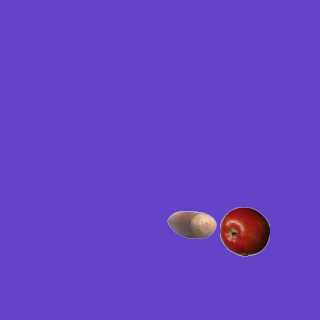Apple Braeburn: (219, 206, 269, 256)
Hazelnut: (166, 199, 216, 249)
